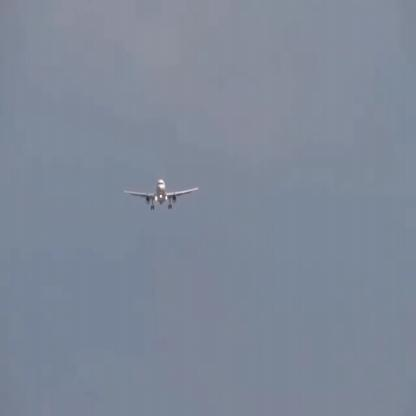CIV_Plane: (124, 180, 200, 212)
